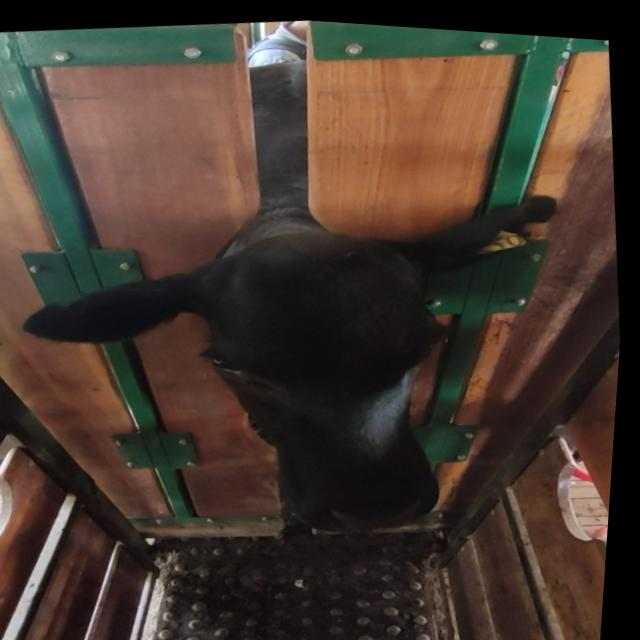cowFace: (186, 212, 482, 548)
